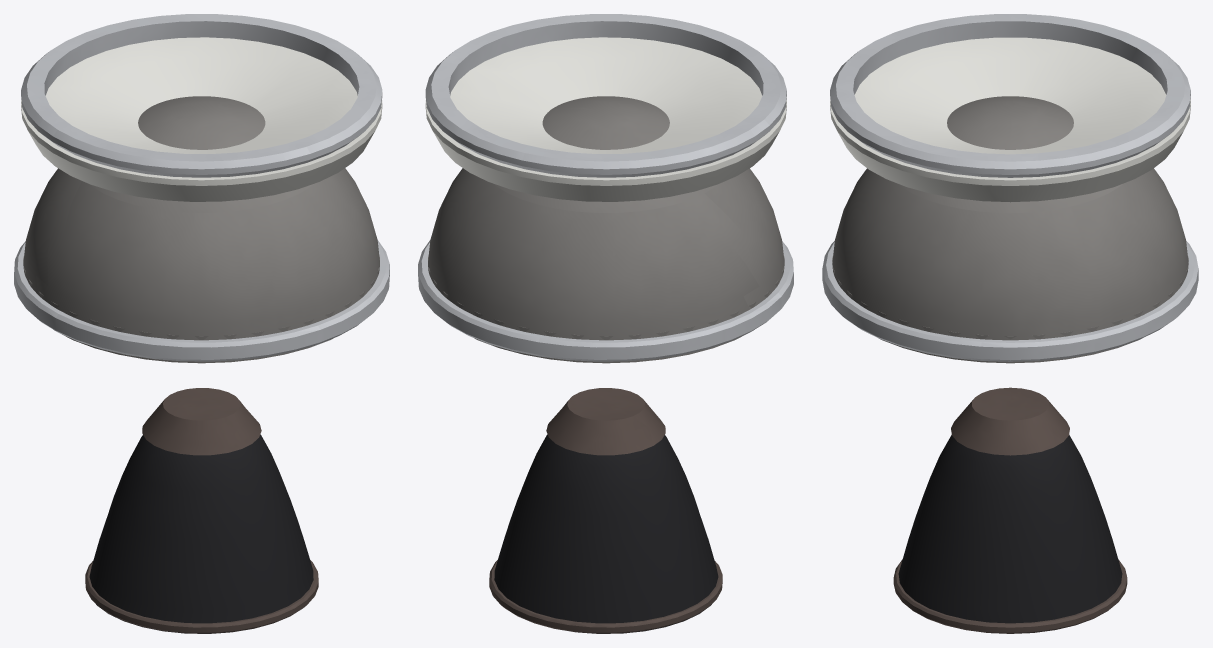
Rendered from ax_prop_14_kick_motor_xs.glb.
3 views of the same model, side by side, from view 1: azimuth 30°, elevation 25°; view 2: azimuth 150°, elevation 25°; view 3: azimuth 270°, elevation 25° (orthographic).
Visible parts, largest first — view 1: motor_case, nozzle, mount_cone, mount_ring, girth_ring, throat_housing, nozzle_lip; view 2: motor_case, nozzle, mount_cone, mount_ring, girth_ring, throat_housing, nozzle_lip; view 3: motor_case, nozzle, mount_cone, mount_ring, girth_ring, throat_housing, nozzle_lip.
Part boxes in pixels (x1,y1,x2,y2): motor_case: (23,96,379,363); nozzle: (89,434,313,633); mount_cone: (21,37,382,201); mount_ring: (21,14,382,177); girth_ring: (14,240,389,361); throat_housing: (142,388,261,455); nozzle_lip: (85,560,318,633); motor_case: (428,96,784,363); nozzle: (494,434,718,633); mount_cone: (425,37,786,201); mount_ring: (425,14,786,177); girth_ring: (418,240,793,361); throat_housing: (546,388,665,455); nozzle_lip: (489,560,722,633); motor_case: (832,96,1188,363); nozzle: (898,435,1122,623); mount_cone: (830,37,1190,202); mount_ring: (830,14,1190,177); girth_ring: (822,241,1198,361); throat_housing: (951,387,1069,455); nozzle_lip: (893,559,1127,633).
Bounding box in the file's own units: 0.651 × 0.9507 × 0.651.
Materials: 5 (3 with a texture image).
